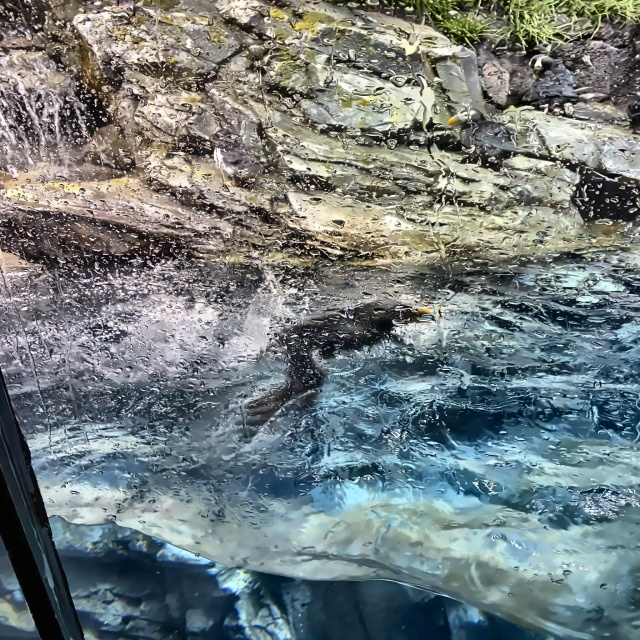puffin: (228, 300, 433, 444), (446, 105, 526, 168), (522, 53, 579, 113)
